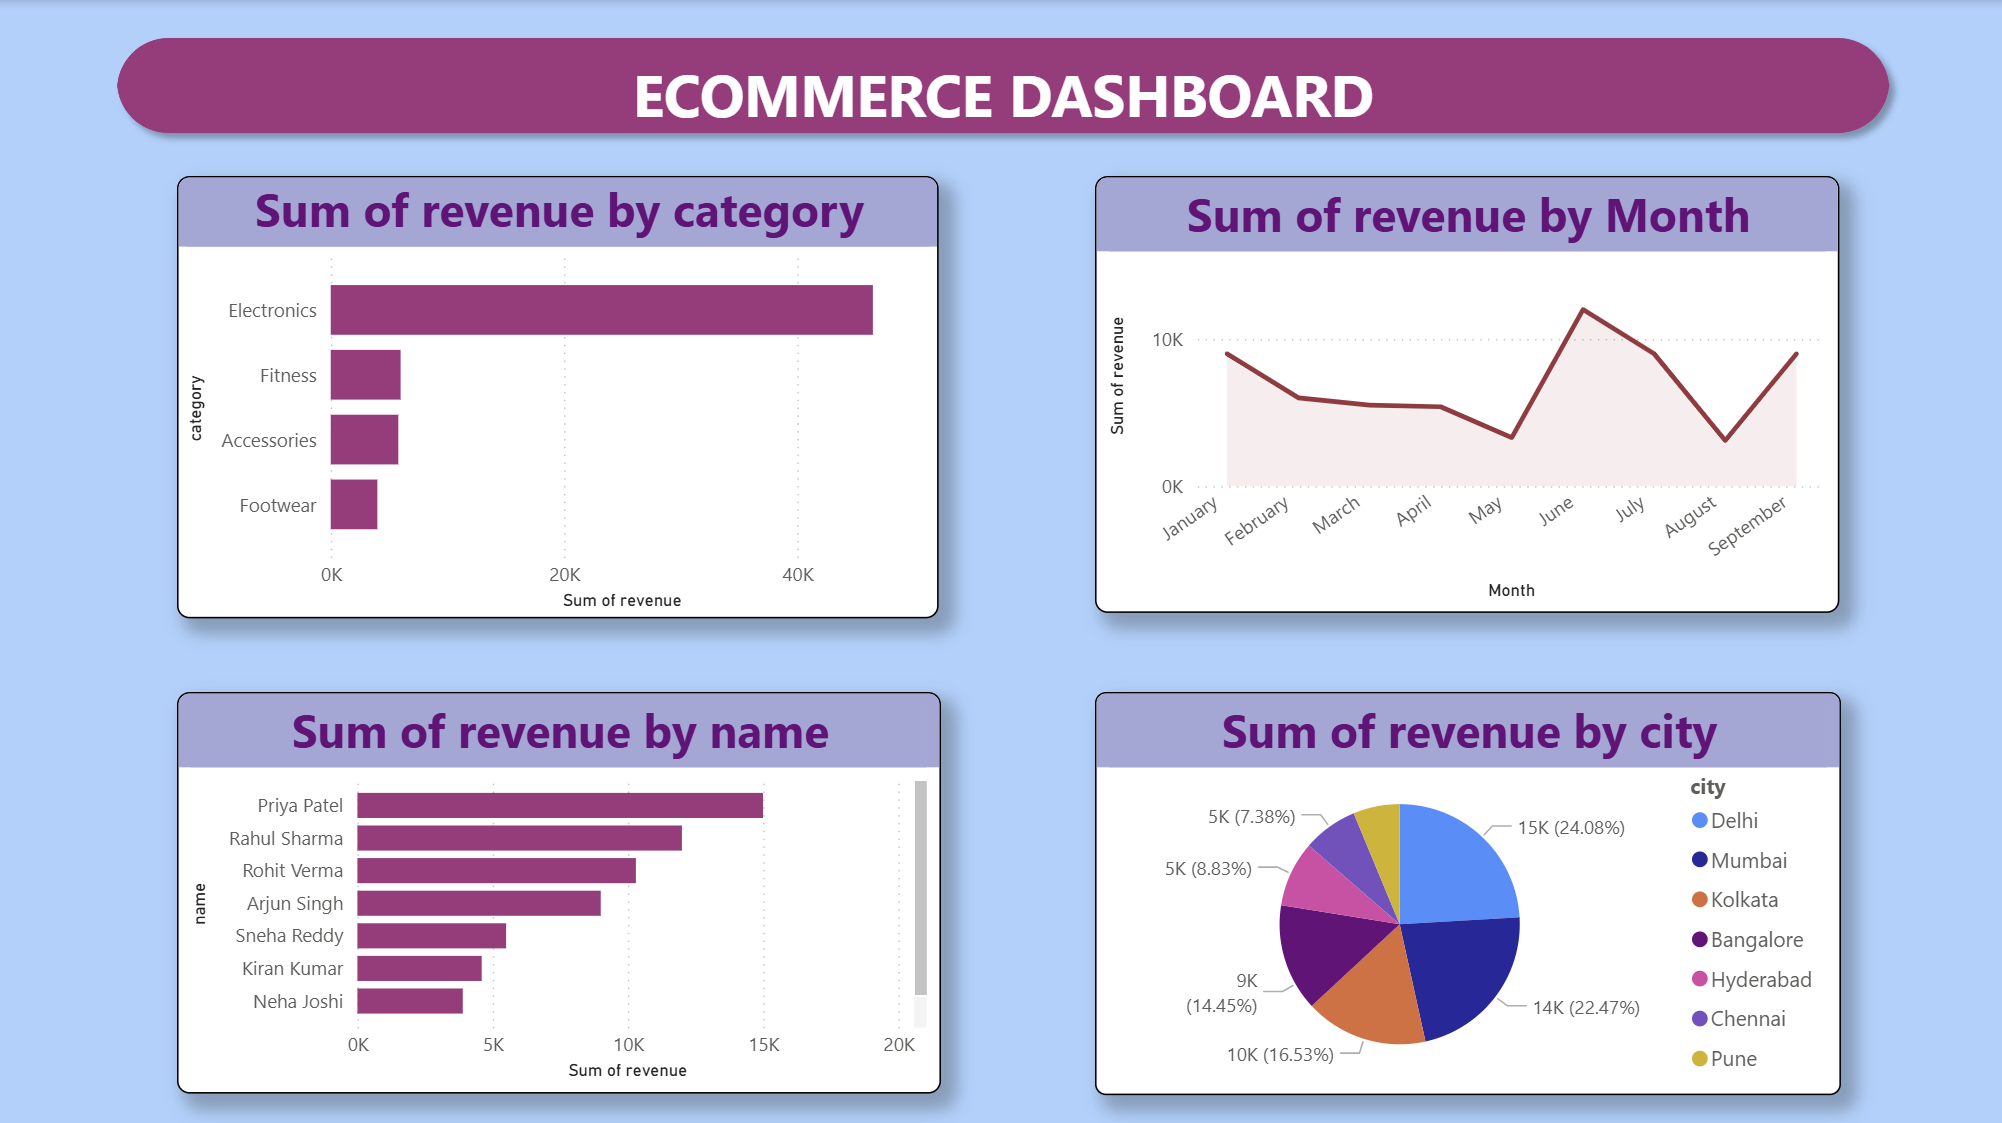

This screenshot's page, from the dashboard's own definition file:
{"tool":"powerbi","page":{"name":"Page 1","canvas":[1280,720],"ordinal":0},"visuals":[{"type":"barChart","fields":{"Category":["orders_data.category"],"Y":["Sum(orders_data.revenue)"]},"box":[114.9,112.6,485.7,282.1],"z":0},{"type":"barChart","fields":{"Category":["orders_data.name"],"Y":["Sum(orders_data.revenue)"]},"box":[114.9,441.3,486.8,255.9],"z":1000},{"type":"lineChart","fields":{"Category":["orders_data.order_date.Variation.Date Hierarchy.Month"],"Y":["Sum(orders_data.revenue)"]},"box":[699.5,112.6,474.3,278.7],"z":2000},{"type":"pieChart","fields":{"Category":["orders_data.city"],"Y":["Sum(orders_data.revenue)"]},"box":[699.5,441.3,475.5,257.1],"z":3000},{"type":"shape","box":[67.1,15.9,1147.7,78.5],"z":4000}]}

Visuals, with their boxes in screenshot pixels (x1, y1, x2, y2), scaled from the page's 1280x720 canvas onto the 2002x1123 screenshot:
barChart - orders_data.category x Sum(orders_data.revenue): [x1=180, y1=176, x2=939, y2=616]
barChart - orders_data.name x Sum(orders_data.revenue): [x1=180, y1=688, x2=941, y2=1087]
lineChart - orders_data.order_date.Variation.Date Hierarchy.Month x Sum(orders_data.revenue): [x1=1094, y1=176, x2=1836, y2=610]
pieChart - orders_data.city x Sum(orders_data.revenue): [x1=1094, y1=688, x2=1838, y2=1089]
shape: [x1=105, y1=25, x2=1900, y2=147]
